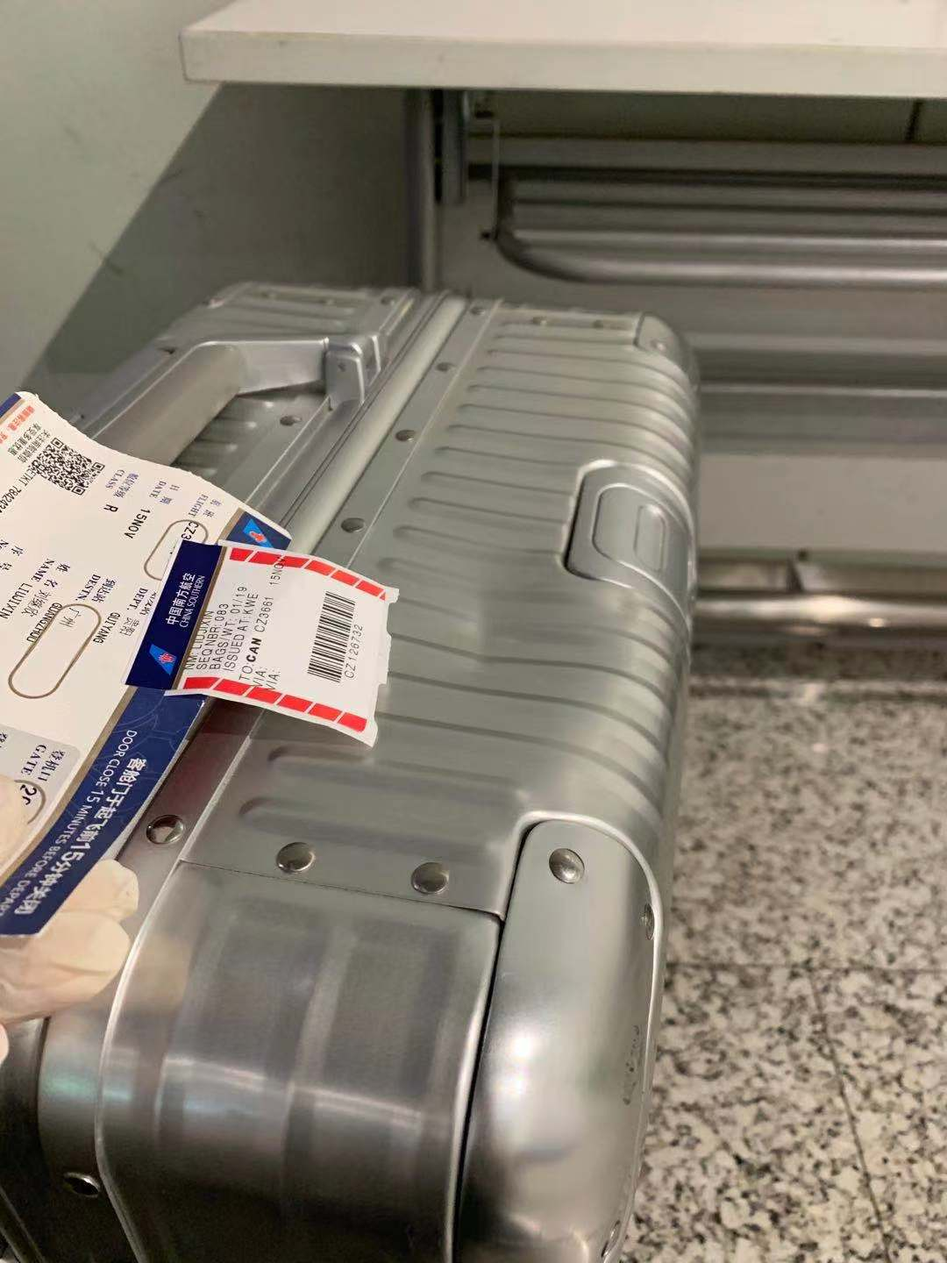rupture: (452, 593, 605, 673)
